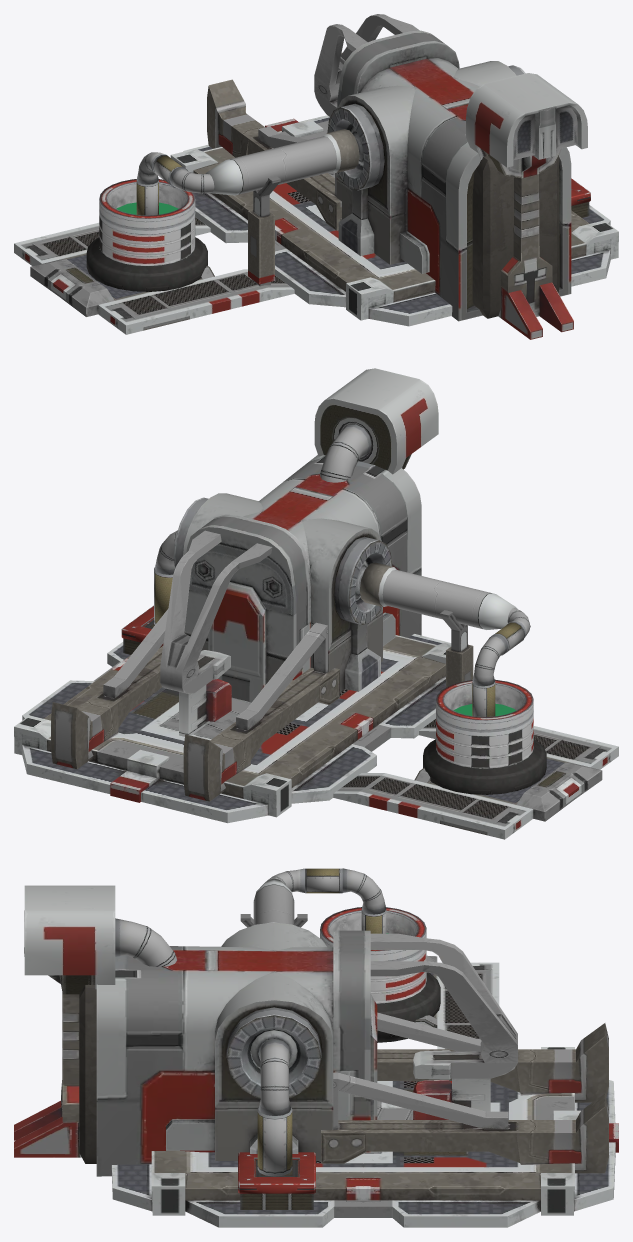
Rendered from Building - 05-BtmdUn3c.glb.
The picture shows the model from 3 angles, top to bottom: view 1: azimuth 30°, elevation 25°; view 2: azimuth 150°, elevation 25°; view 3: azimuth 270°, elevation 25°; orthographic projection. The views are drawn at different scales.
Visible parts, largest first — view 1: Main_form_02, Pad_01, Pylon_07, Pad_02, Extras_08, Simlpe_form_02, Tube_02, Pylon_02, Pylon_08, Column_08, Tube_04_corner (1), Tube_04_half (2) (+3 smaller); view 2: Main_form_02, Pad_01, Pad_02, Extras_08, Pylon_02, Pylon_08, Pylon_07, Pylon_02 (1), Tube_02, Tube_04_corner (3), Column_08, Tube_04_corner (2) (+4 smaller); view 3: Main_form_02, Pad_01, Pylon_02 (1), Pylon_07, Pylon_08, Pylon_02, Extras_08, box1, Simlpe_form_02, Tube_04_half, Tube_04_corner, Pad_02 (+6 smaller).
Boxes of the visible parts, x1,y1,x2,y2 form: Main_form_02: (327, 30, 571, 321); Pad_01: (170, 115, 618, 326); Pylon_07: (466, 73, 587, 339); Pad_02: (14, 217, 294, 334); Extras_08: (86, 179, 207, 291); Simlpe_form_02: (472, 155, 558, 318); Tube_02: (205, 129, 359, 195); Pylon_02: (207, 79, 341, 230); Pylon_08: (314, 14, 419, 116); Column_08: (248, 176, 280, 286); Tube_04_corner (1): (169, 167, 214, 193); Tube_04_half (2): (136, 180, 158, 215); Main_form_02: (173, 455, 421, 702); Pad_01: (14, 634, 451, 823); Pad_02: (333, 719, 618, 839); Extras_08: (423, 679, 546, 794); Pylon_02: (183, 622, 339, 801); Pylon_08: (160, 530, 272, 736); Pylon_07: (314, 368, 438, 474); Pylon_02 (1): (51, 609, 168, 769); Tube_02: (359, 562, 517, 629); Tube_04_corner (3): (320, 424, 371, 482); Column_08: (440, 610, 473, 687); Tube_04_corner (2): (472, 634, 507, 686); Main_form_02: (96, 922, 377, 1176); Pad_01: (111, 1047, 618, 1227); Pylon_02 (1): (321, 1072, 608, 1173); Pylon_07: (14, 885, 115, 1157); Pylon_08: (370, 933, 517, 1119); Pylon_02: (377, 1012, 608, 1102); Extras_08: (320, 907, 440, 1042); box1: (238, 1152, 315, 1209); Simlpe_form_02: (79, 985, 96, 1163); Tube_04_half: (257, 1107, 292, 1176); Tube_04_corner: (258, 1039, 291, 1115); Pad_02: (415, 955, 499, 1049).
Size of the model in its own units: 6.36 by 3.01 by 6.23.
8 materials, 8 textured.
